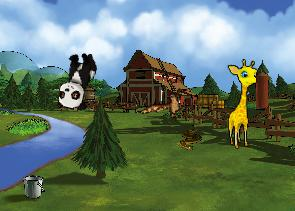eagle: (137, 77, 195, 135)
giraffe: (227, 59, 259, 149)
panda: (54, 48, 99, 113)
